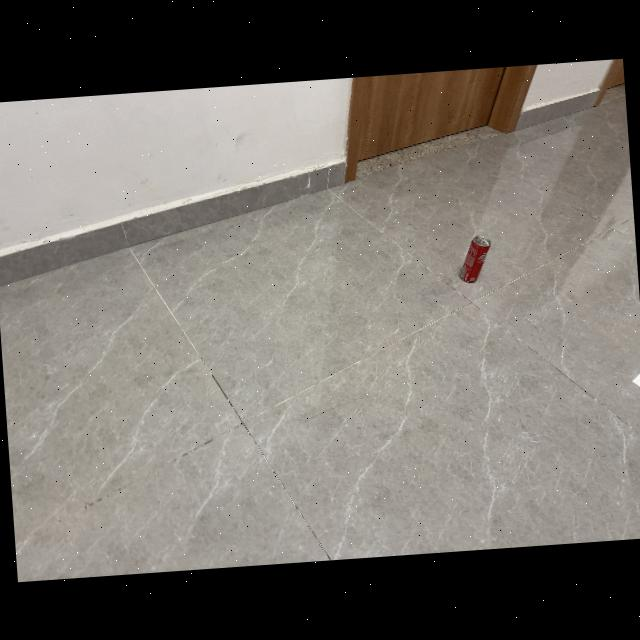Cola: (454, 229, 496, 285)
